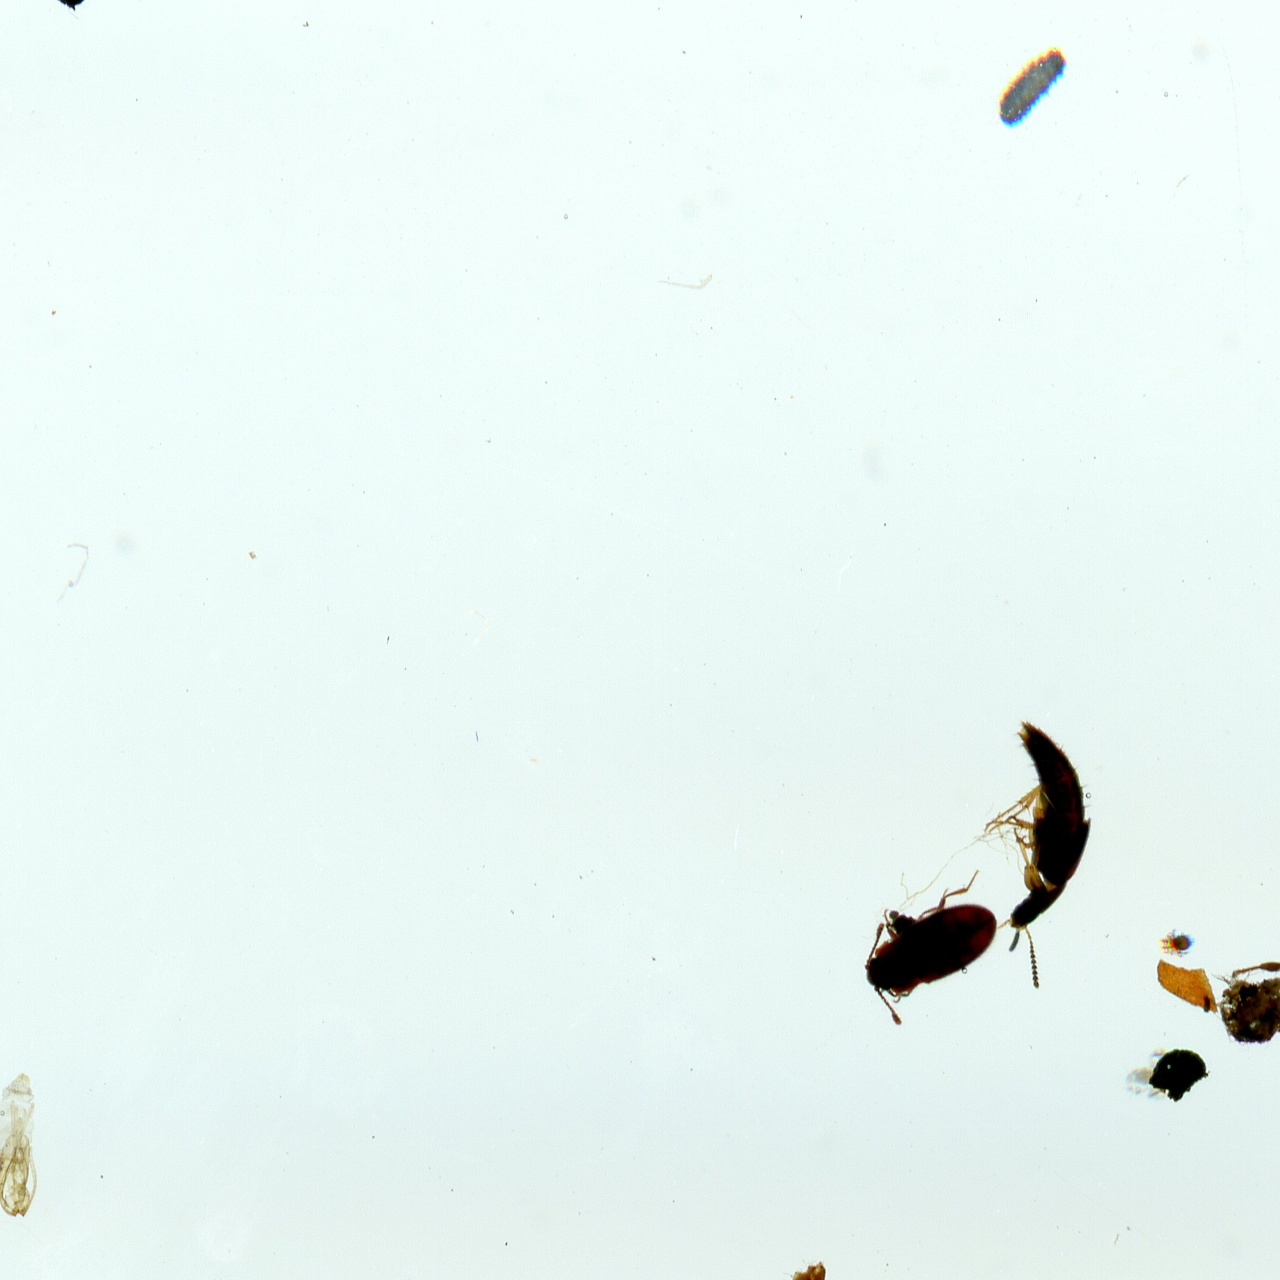arthropod: (831, 853, 1030, 1036), (979, 716, 1094, 993), (1224, 801, 1280, 1110), (978, 28, 1081, 144), (0, 1067, 48, 1225), (1156, 926, 1198, 960)
